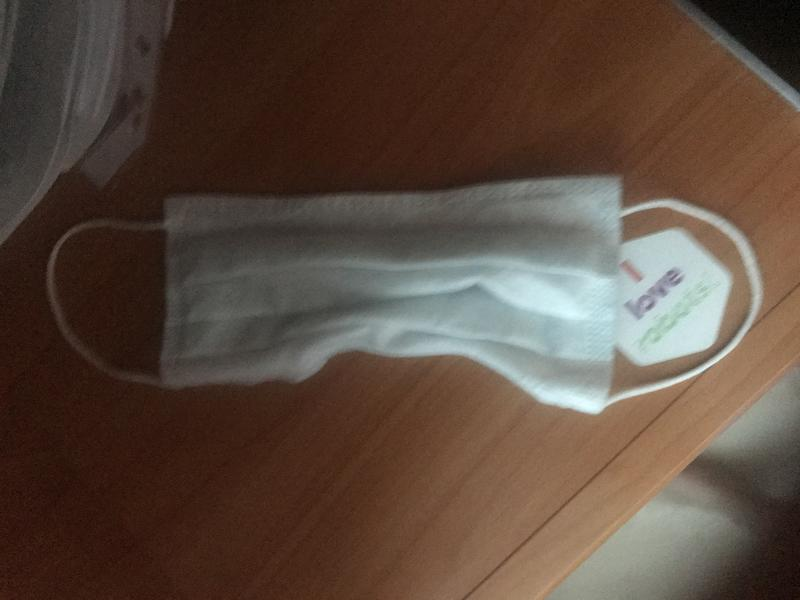medical_mask: (46, 176, 764, 421)
